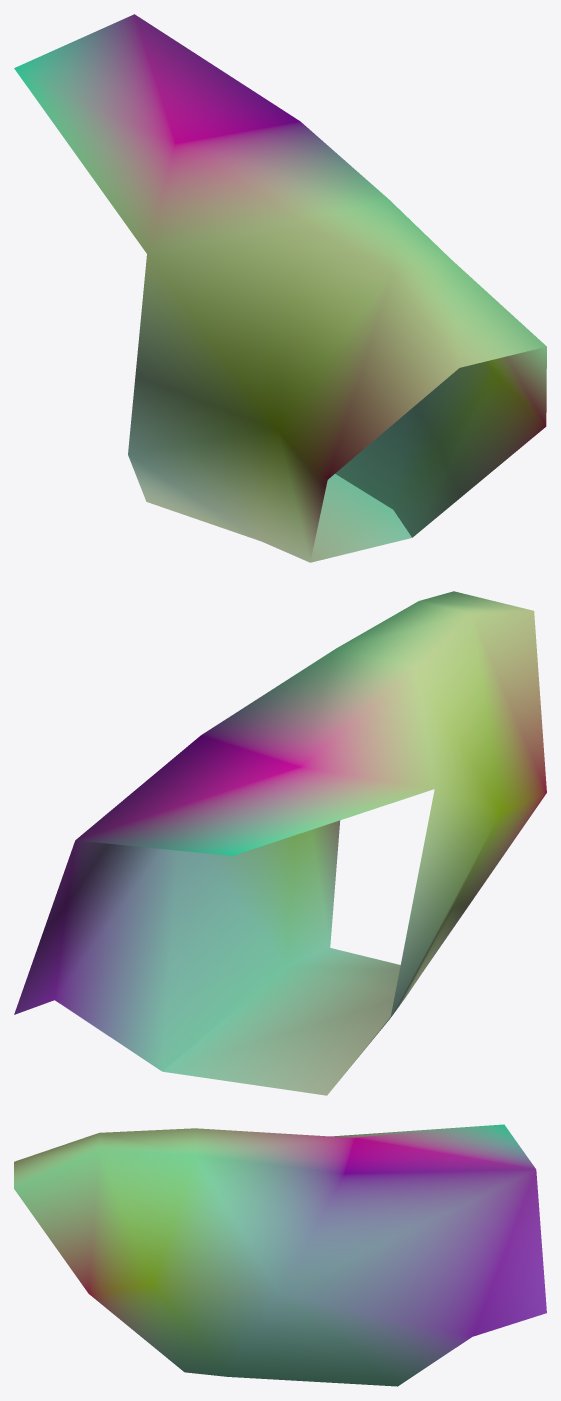
The picture shows the model from 3 angles, top to bottom: view 1: azimuth 30°, elevation 25°; view 2: azimuth 150°, elevation 25°; view 3: azimuth 270°, elevation 25°; orthographic projection. The views are drawn at different scales.
Parts seen in each view (by area): view 1: part; view 2: part; view 3: part.
Boxes of the visible parts, box(x1,y1,x2,y2) form: part: box(14, 14, 546, 562); part: box(14, 591, 546, 1095); part: box(14, 1124, 546, 1386).
Bounding box in the file's own units: 19 × 24 × 50.
